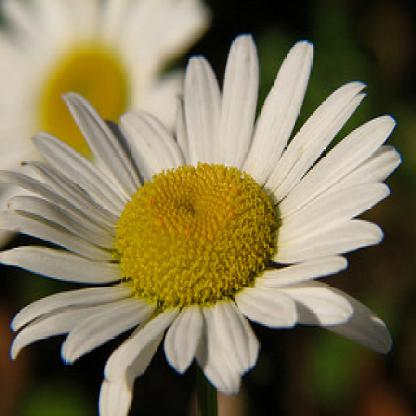ASTER: (5, 15, 412, 415)
